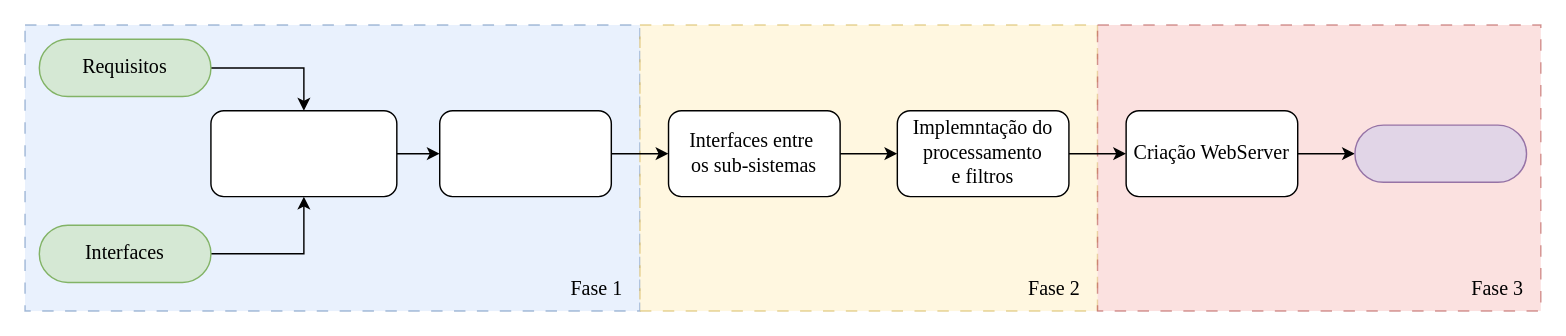
Some shapes in this 1566 by 336 pixel diagram are drawn without their labels. The shapes that lost their labels are listed below. From the top down, each one's box as (x1, y1, x2, y2) in pixels, then its label:
(209, 109, 397, 197): Desenvolvimento interface individual sensores e comandos
(438, 109, 611, 197): Implementação individual em RTOS
(1353, 124, 1527, 182): Software Final
